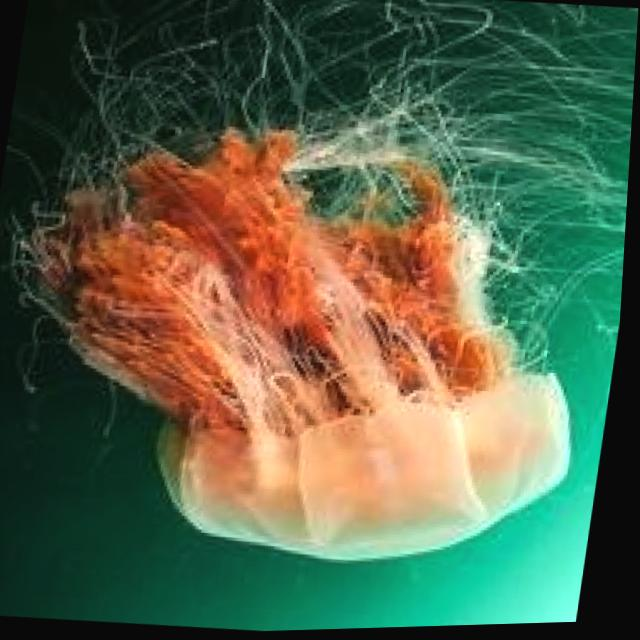Jellyfish: (0, 95, 625, 593)
